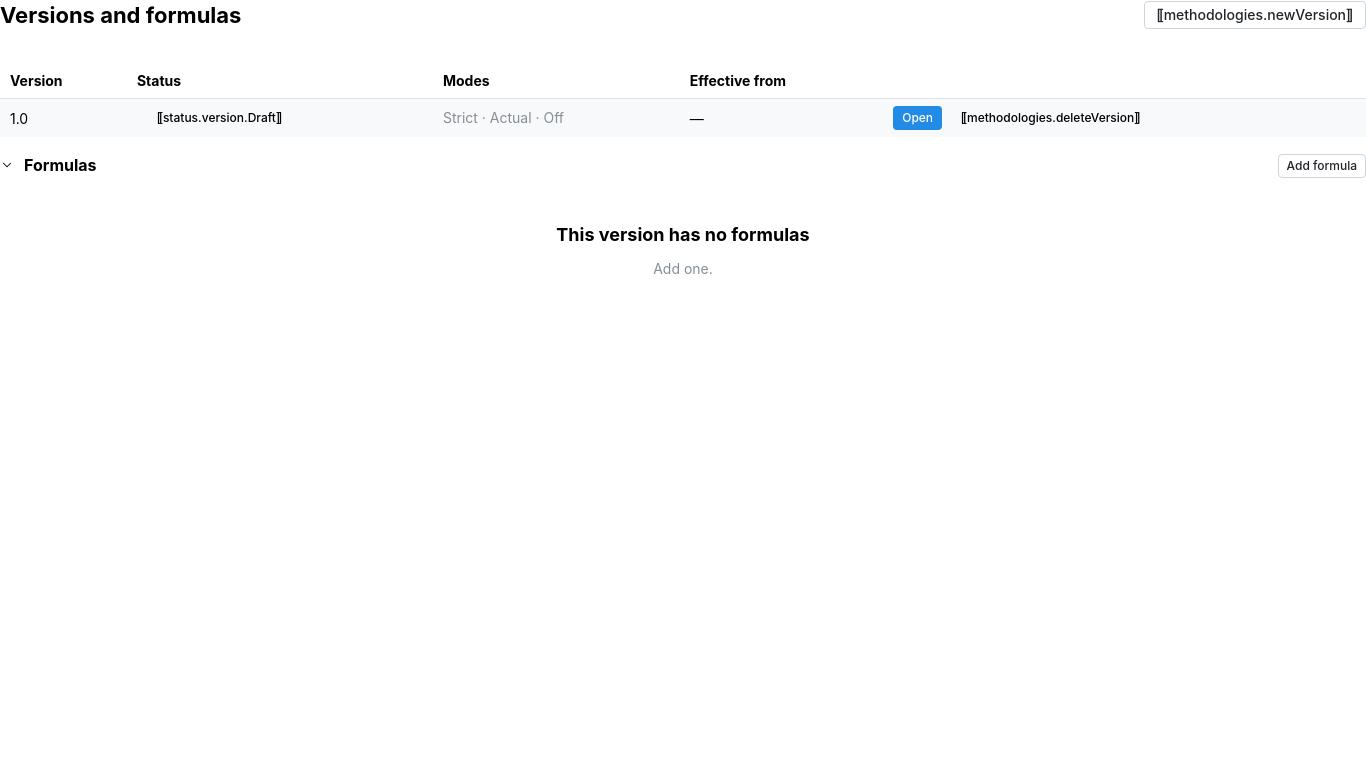
MethodologyVersionsPage: синтаксична помилка виразу більше не зберігається мовчки (lane5) › невалідний вираз показує знахідки і блокує "Save formula"
Expected: the text "1.0" is shown, [0,99,127,138]
Click the button "Add formula" at (1322, 166), box [1278,154,1365,178]
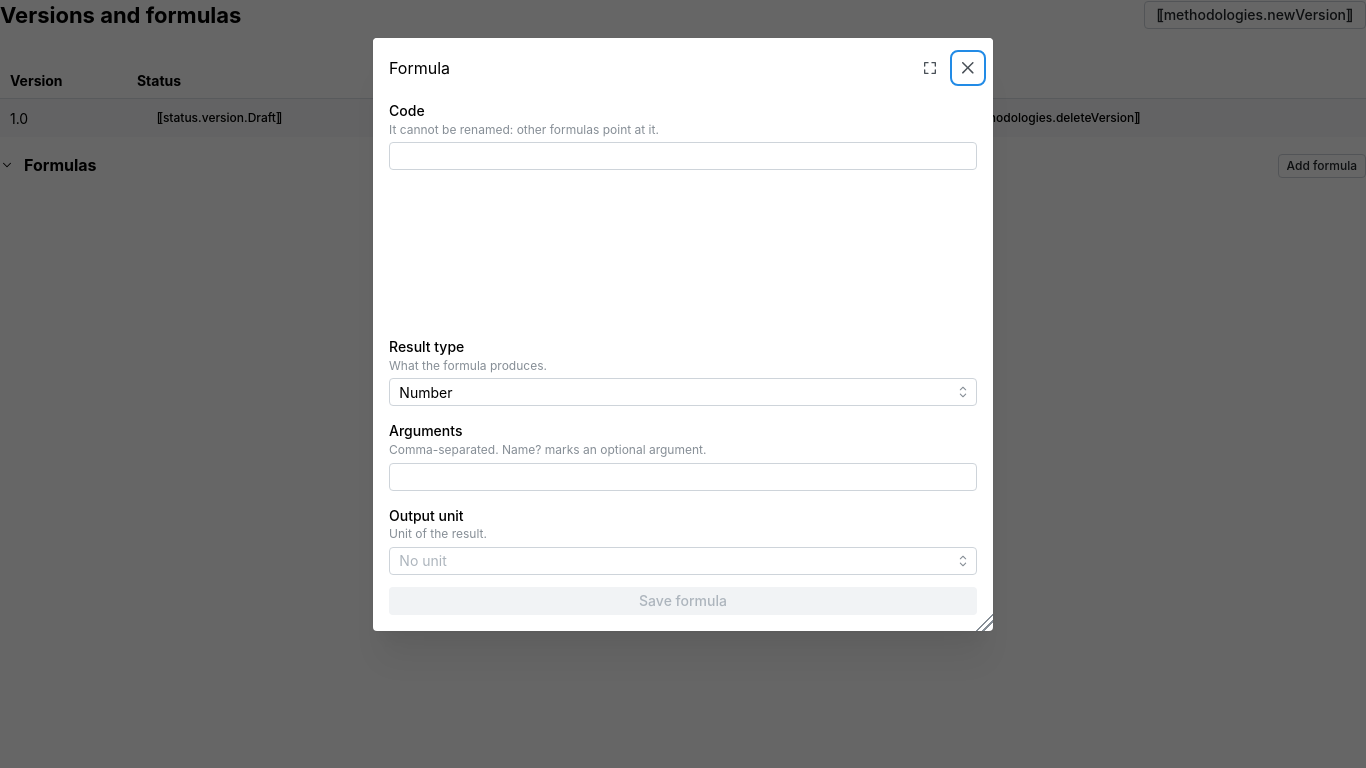
Type "LANE5_F1" into the field labelled "Code" at (683, 157), box [389,143,977,171]
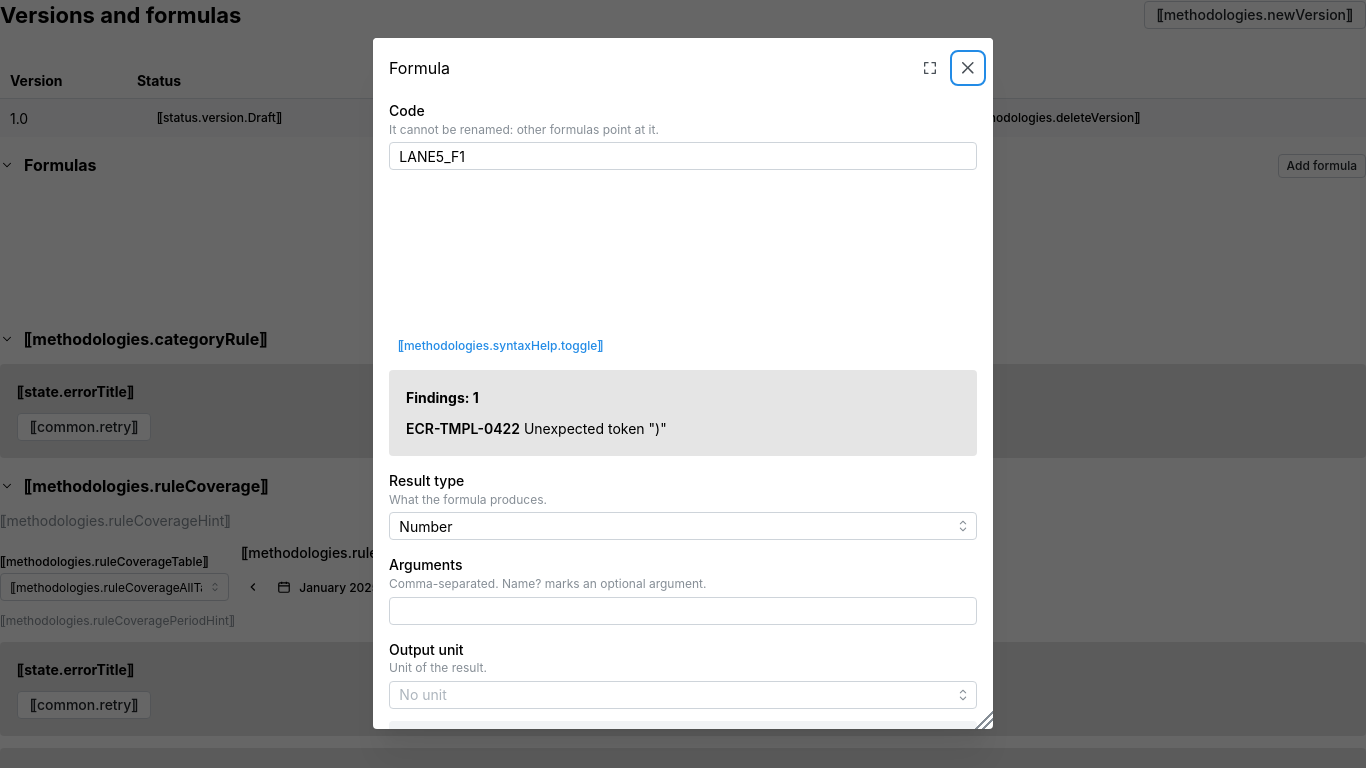
Expected: the text "Findings: 1" is shown, [406,388,479,409]
Expected: the text "Unexpected token \")\"" is shown, [524,420,667,437]
